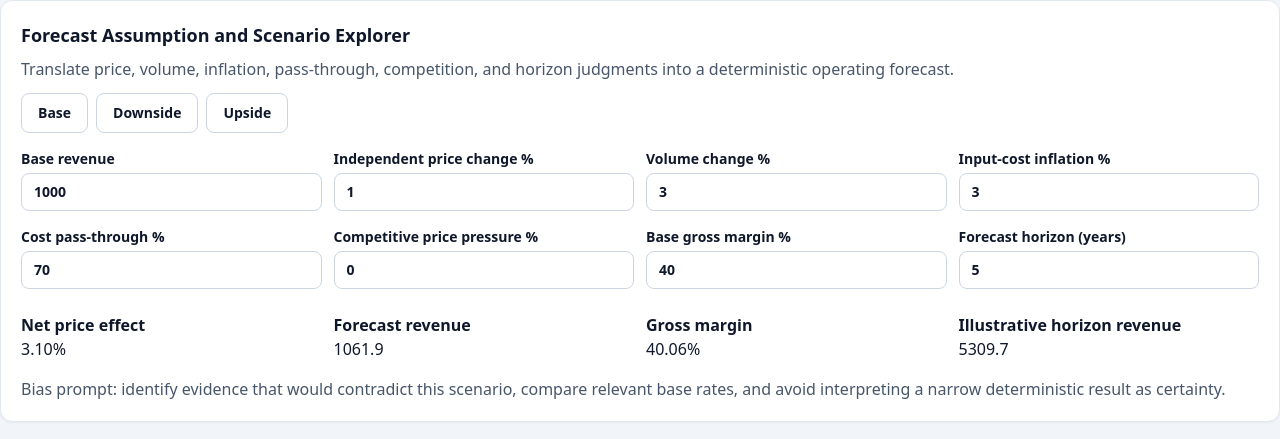
Scenario: LM12 forecasting tools › switches to a coherent downside scenario
What coordinates should you click on to do the following:
click the button "downside"
I would click on:
 (147, 113)
Its box is [96,93,198,133].
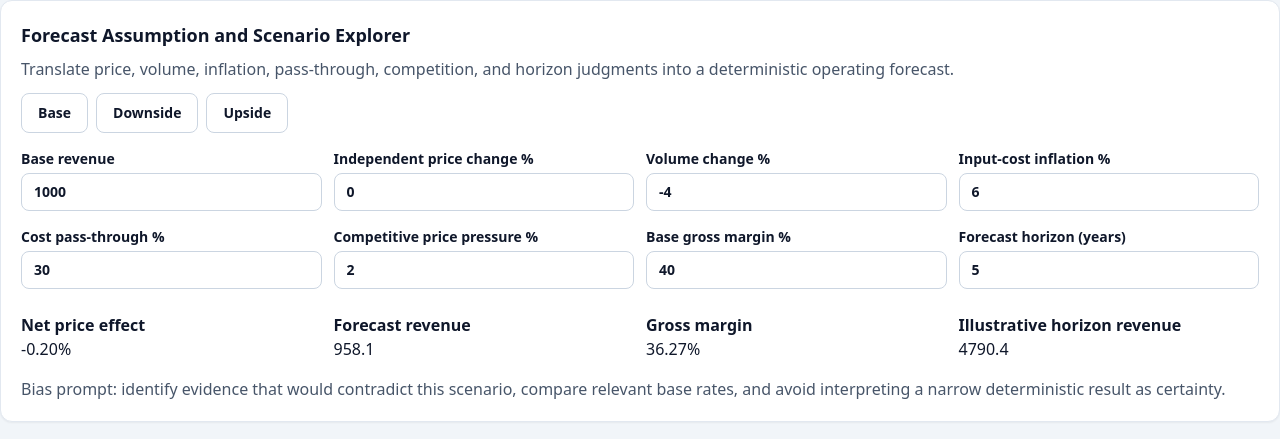
Now the number field labelled "Volume change %" holds "-4", box [646,173,946,211]
Now the number field labelled "Cost pass-through %" holds "30", box [21,251,322,289]
